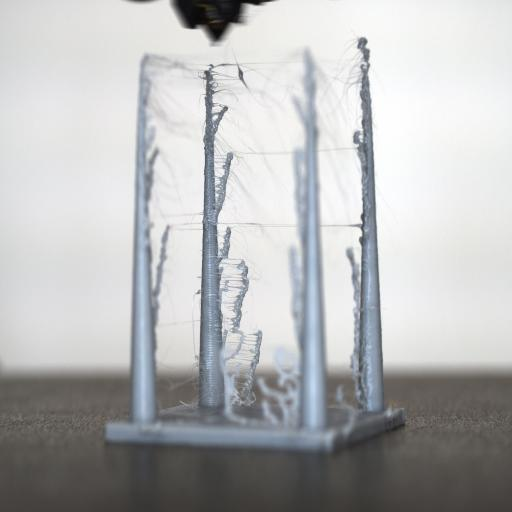stringing: (147, 40, 371, 413)
